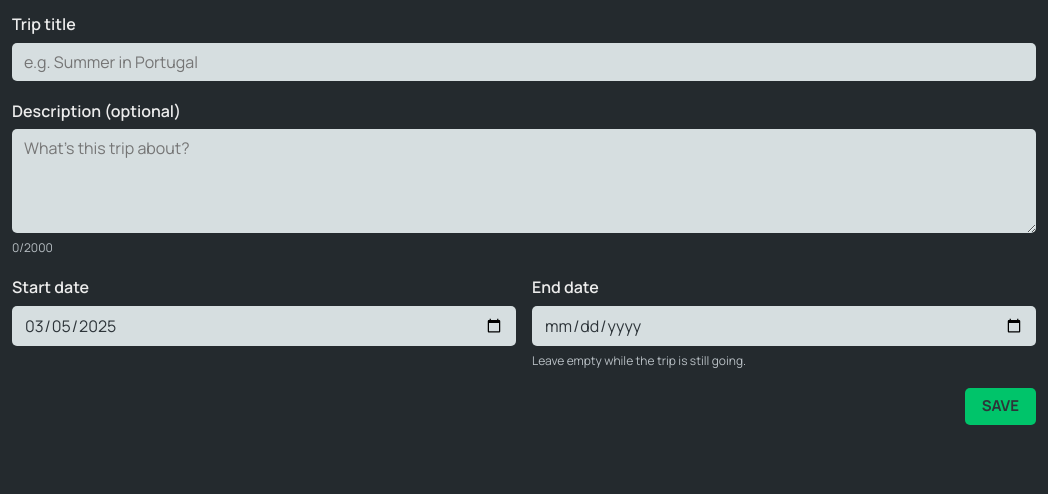
Test case: TripDetailsForm › shows validation errors and doesn't submit
Type "2025-03-01" into the date field labelled "End date" at {"x": 784, "y": 326}, box x1=532 y1=306 x2=1036 y2=346
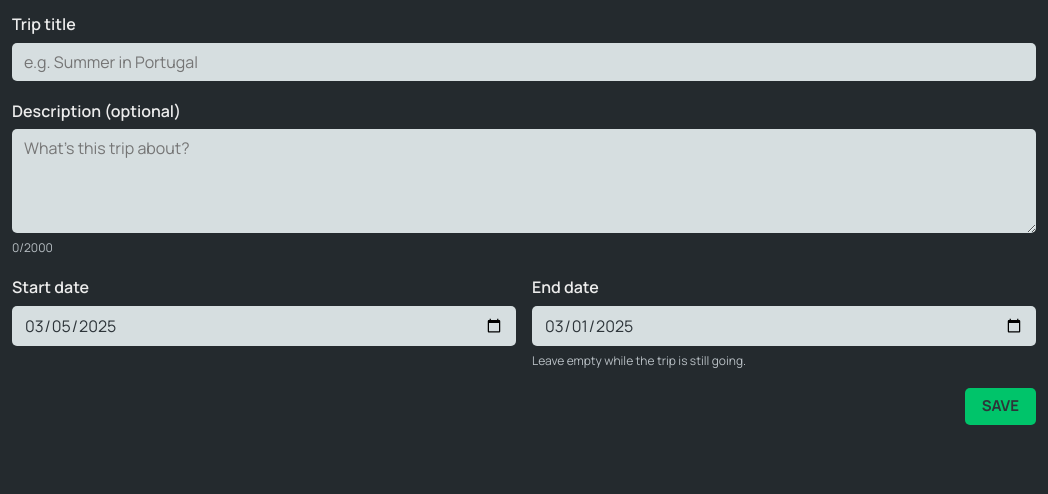
Click the button "Save" at {"x": 1000, "y": 407}, box x1=965 y1=388 x2=1036 y2=425
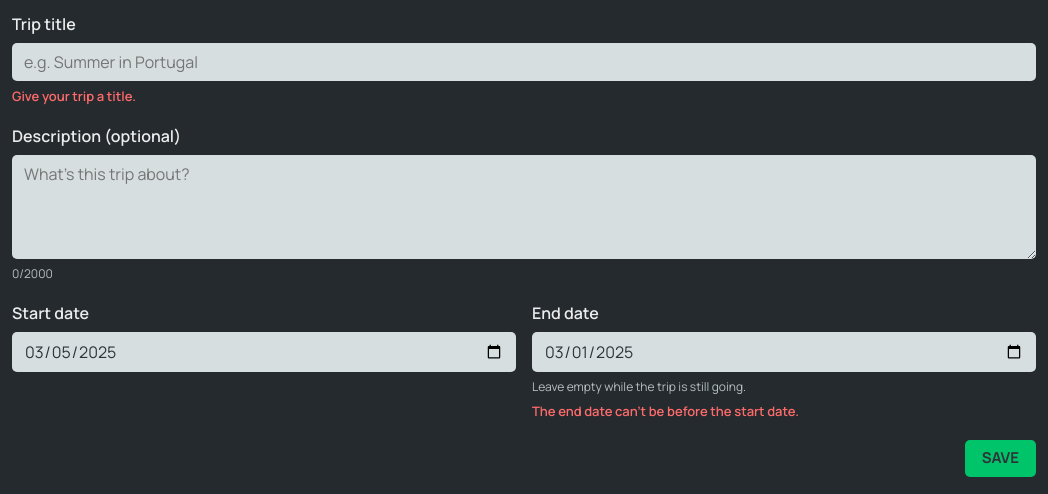
Now the text "Give your trip a title." is shown, box x1=12 y1=87 x2=136 y2=105
Now the text "The end date can't be before the start date." is shown, box x1=532 y1=402 x2=799 y2=420
